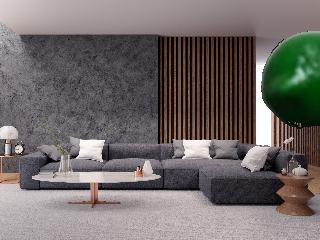lime: (261, 31, 320, 128)
